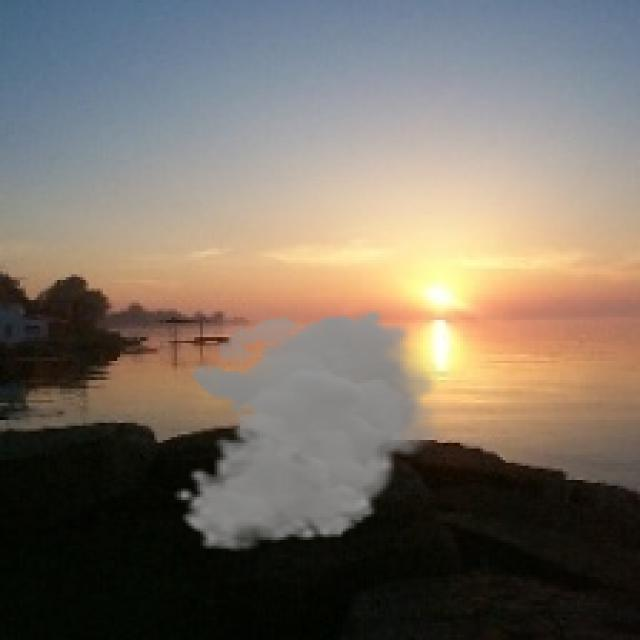Smoke: (174, 308, 449, 552)
